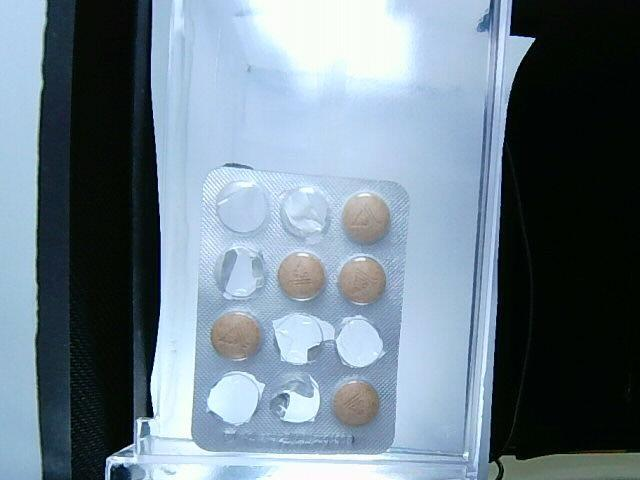Light Front: (191, 164, 412, 455)
No Pill Front: (273, 314, 385, 367), (206, 371, 264, 425), (215, 245, 265, 299), (216, 181, 268, 232), (270, 374, 318, 423), (281, 186, 327, 237)
Pill Front: (343, 193, 390, 244), (339, 255, 386, 305), (211, 313, 259, 361), (278, 251, 325, 300), (333, 380, 379, 424)
